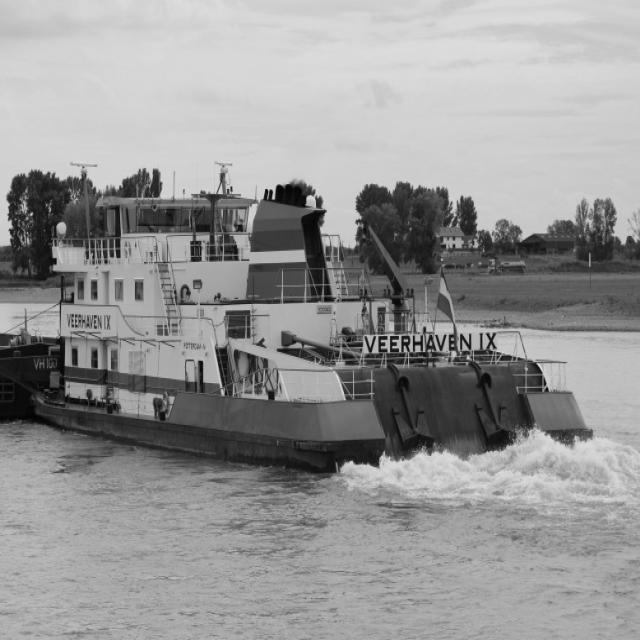tugboat: (25, 160, 602, 484)
